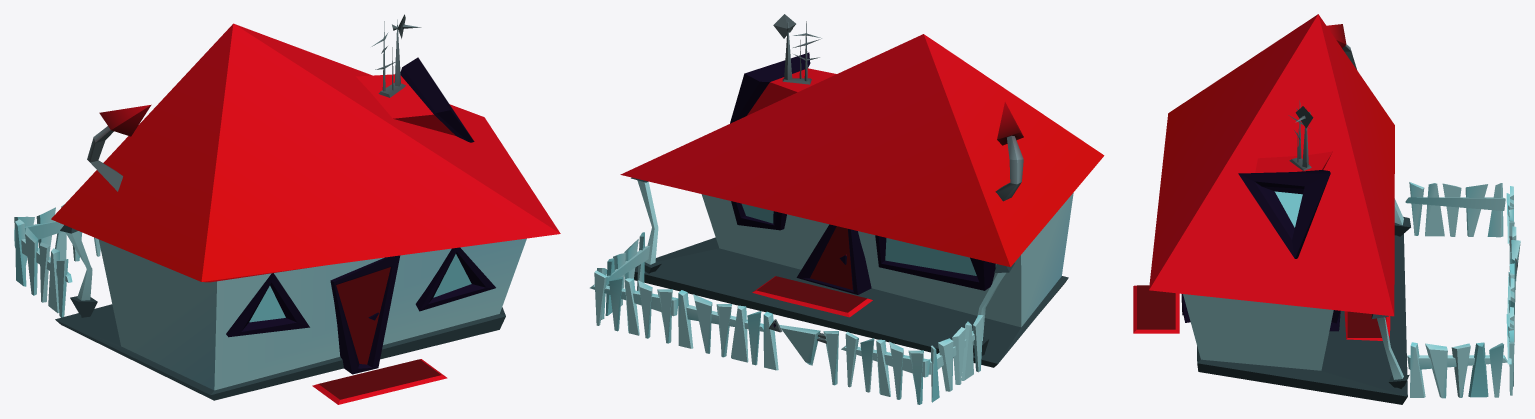
Rendered from testHouse_B.fbx.
The picture shows the model from 3 angles, left to right: view 1: azimuth 30°, elevation 25°; view 2: azimuth 150°, elevation 25°; view 3: azimuth 270°, elevation 25°; orthographic projection. The views are drawn at different scales.
Visible parts, largest first — view 1: x_house_ab; view 2: x_house_ab; view 3: x_house_ab.
Boxes of the visible parts, bbox=[...] form: x_house_ab: bbox=[14, 14, 560, 404]; x_house_ab: bbox=[590, 14, 1104, 404]; x_house_ab: bbox=[1133, 14, 1520, 404].
Size of the model in its own units: 9.57 by 6.44 by 8.33.
